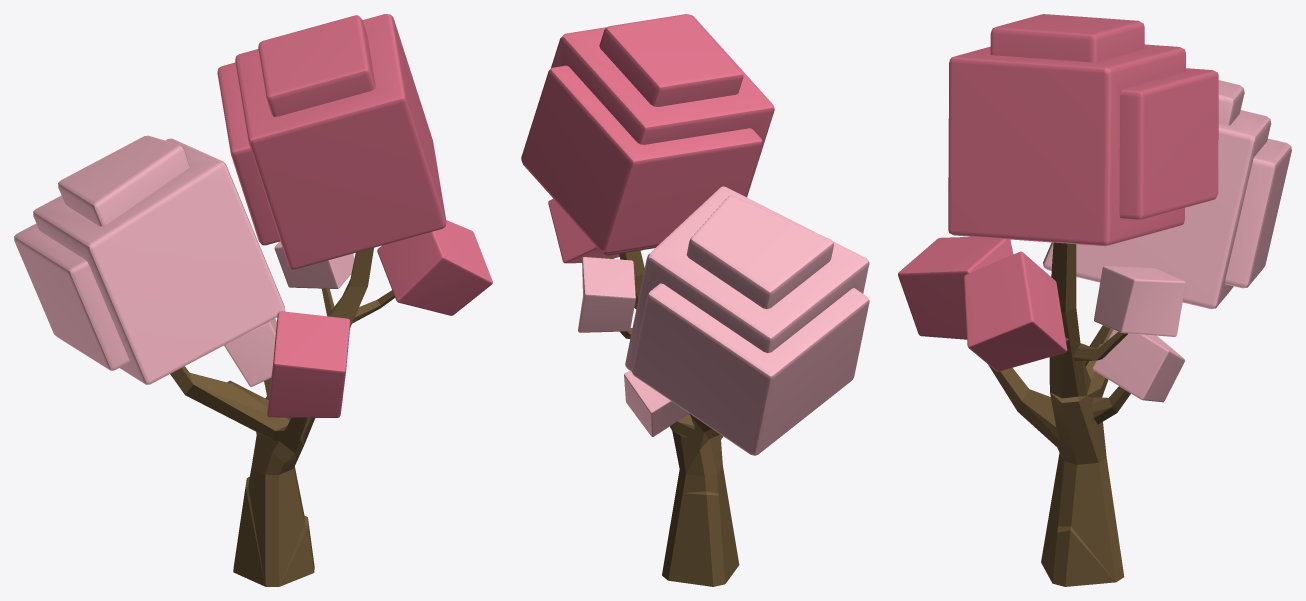
File: model_polytope_tree08.fbx
The picture shows the model from 3 angles, left to right: view 1: azimuth 30°, elevation 25°; view 2: azimuth 150°, elevation 25°; view 3: azimuth 270°, elevation 25°; orthographic projection. The views are drawn at different scales.
Visible parts, largest first — view 1: model_polytope_tree08; view 2: model_polytope_tree08; view 3: model_polytope_tree08.
Part boxes in pixels (x1=…): model_polytope_tree08: x1=14, y1=14, x2=492, y2=586; model_polytope_tree08: x1=521, y1=14, x2=869, y2=586; model_polytope_tree08: x1=898, y1=14, x2=1291, y2=586.
Bounding box in the file's own units: 403 × 561 × 344.
